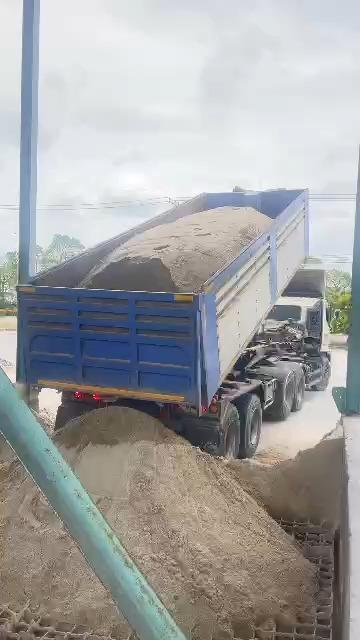sand: (55, 407, 315, 639), (0, 462, 127, 639), (79, 207, 271, 291), (227, 433, 344, 527), (32, 410, 53, 433), (0, 433, 15, 464)
